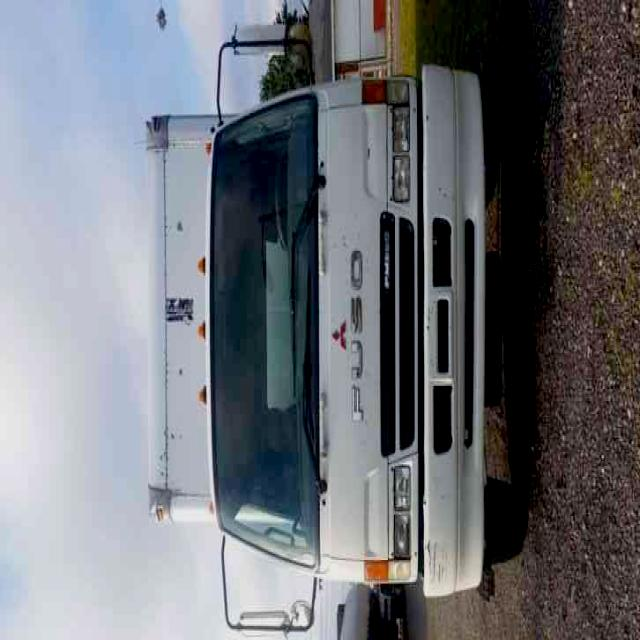truck: (143, 22, 525, 640)
